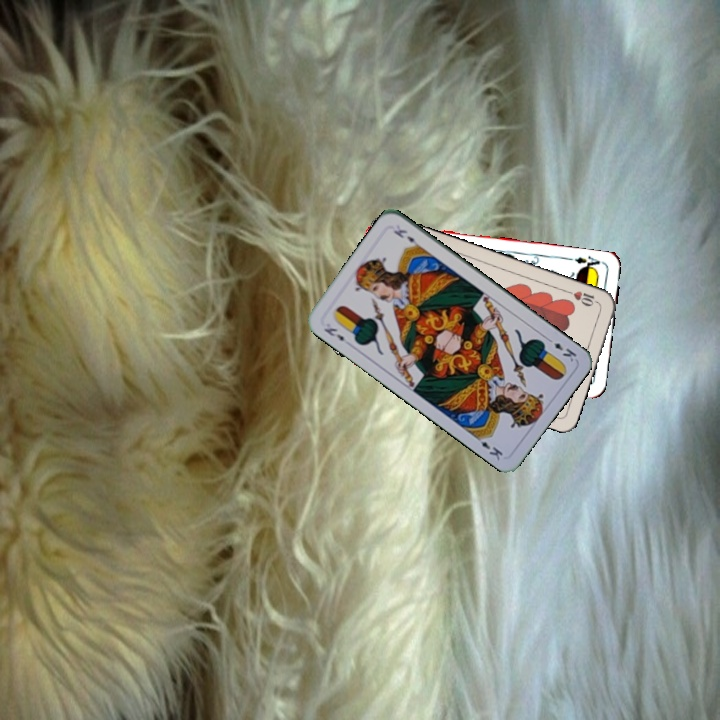EA: (571, 252, 606, 273)
EK: (543, 334, 579, 365), (320, 324, 347, 344)
H10: (562, 286, 602, 309)
